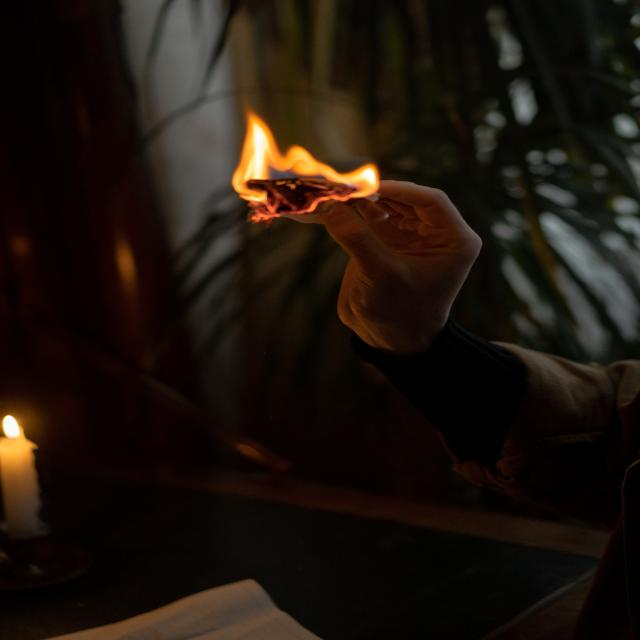fire: (181, 97, 384, 222)
